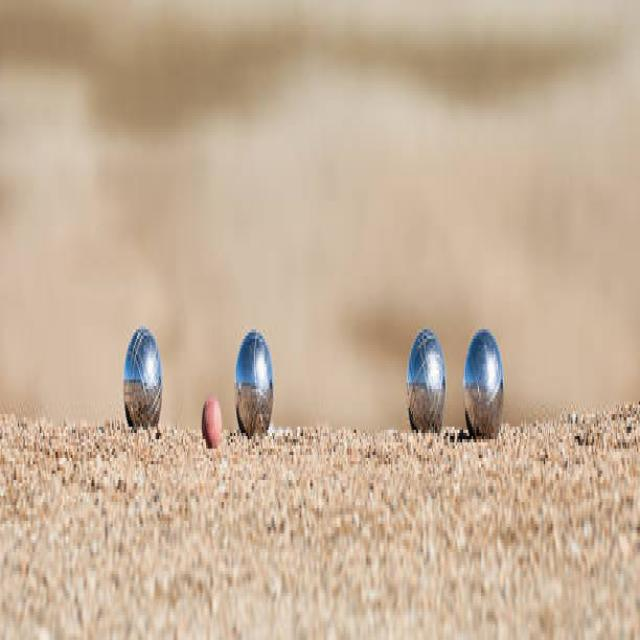hatball: (200, 392, 224, 456)
petanque: (115, 314, 166, 447), (458, 316, 508, 444), (230, 325, 277, 444), (403, 318, 447, 441)
